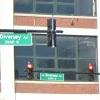traffic lights: (47, 18, 58, 50), (25, 59, 35, 81), (86, 60, 95, 82)
